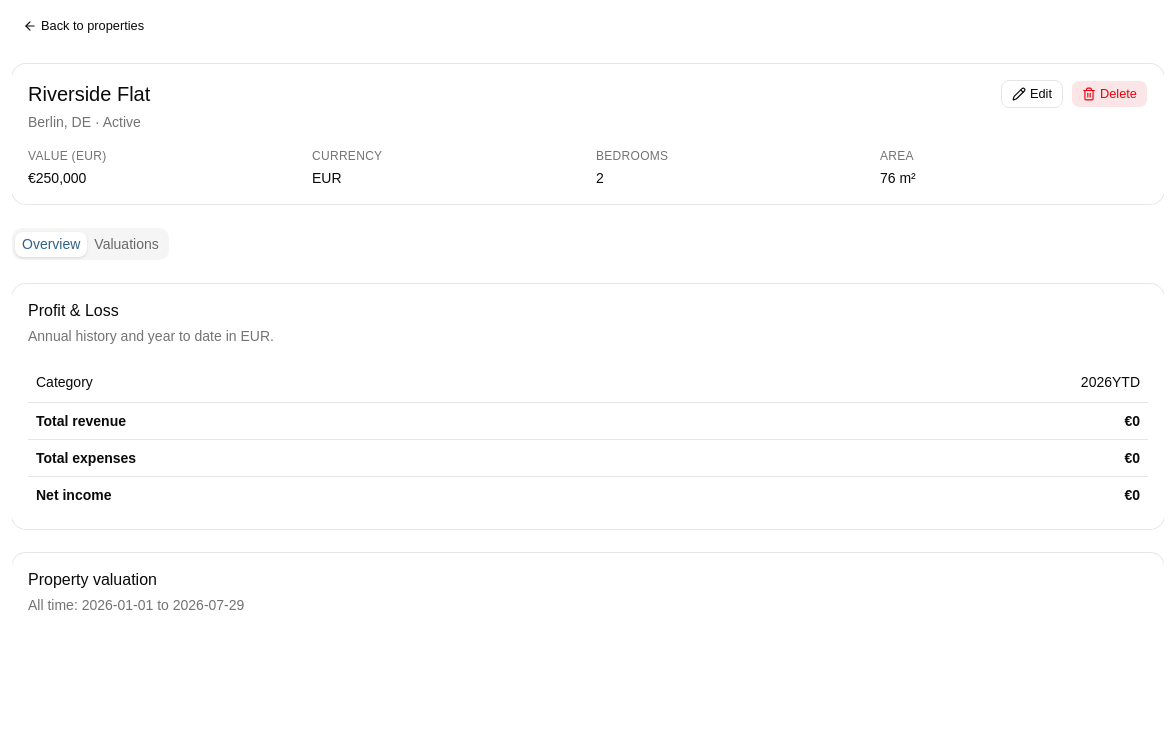
it: PropertyDetailPage › renders partial capital snapshots without fabricating zero or equity
Expected: the text "Riverside Flat" is shown, [28,83,150,105]
What coordinates should you click on to do the following:
click the tab "Valuations"
I would click on:
 (127, 244)
Its box is [87,232,166,256].
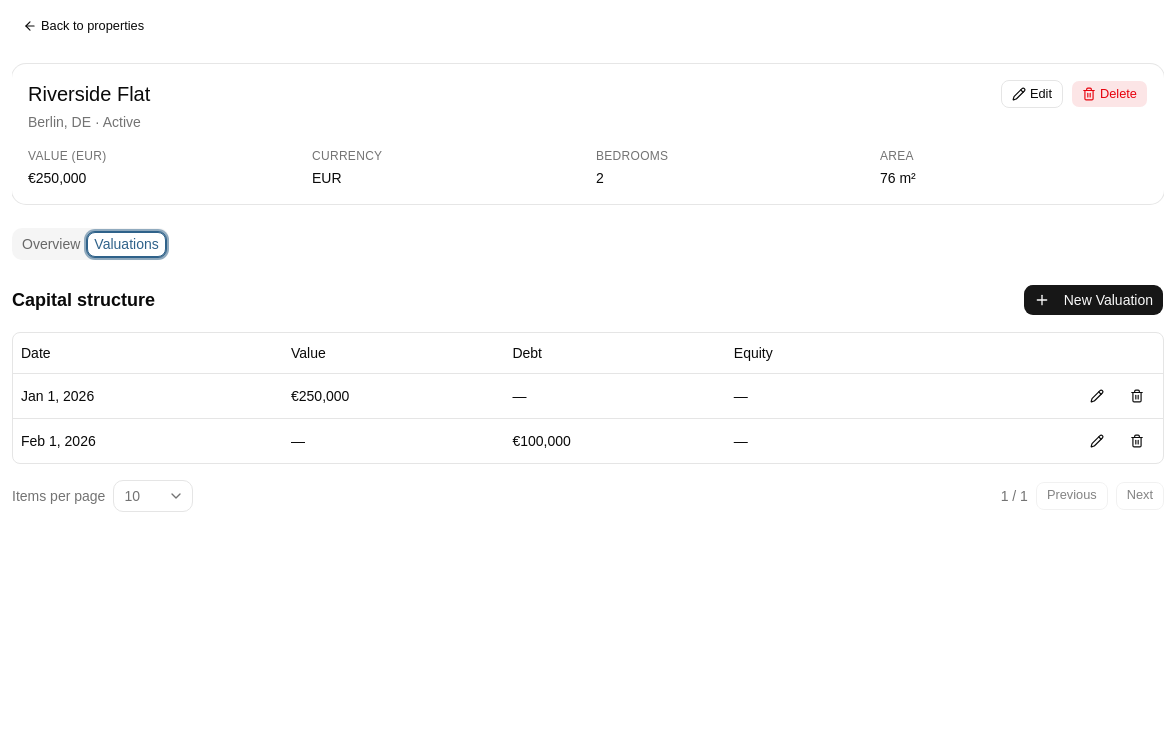
Result: the text "€0" is gone
